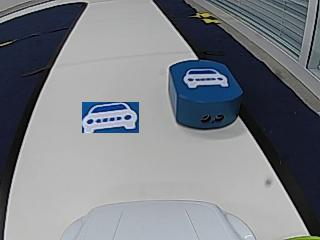safety: (181, 68, 230, 89)
